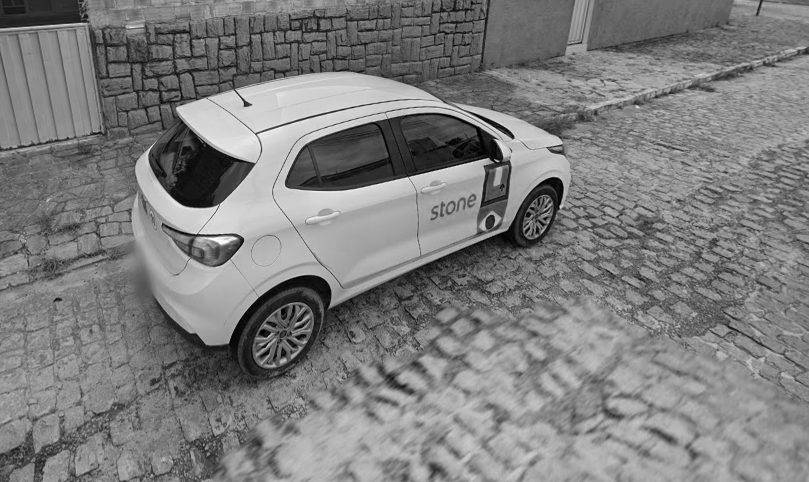car: (127, 69, 573, 381)
